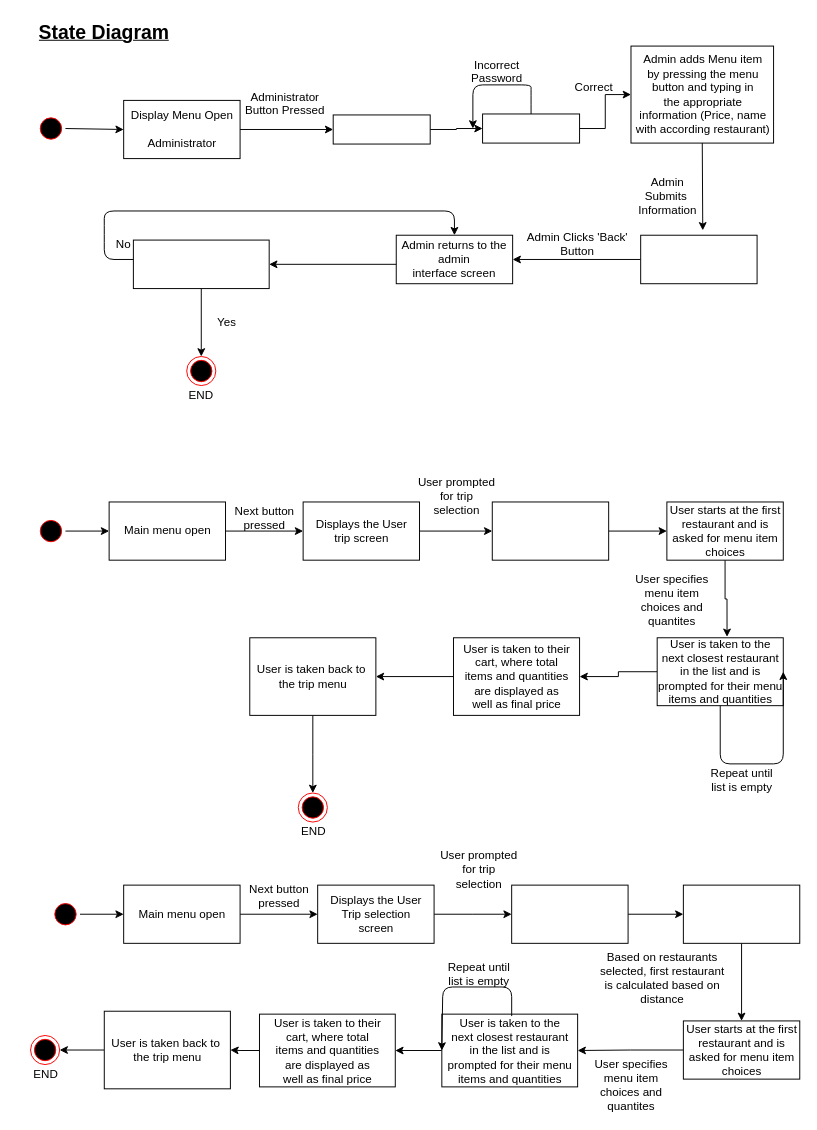
Image size: 817x1130. Some labels were removed from this diagram. The shapes that lost their labels are listed below. From the top down, each one's centre as x and y in pixels, then its label:
At [381,129]: "Display the admin login".
At [531,128]: "Admin enters password".
At [200,264]: "Admin logout (Admin backs out of the admin menu screen)".
At [698,259]: "Item added to the restaurant and is displayed".
At [550,530]: "User selects initial trip".
At [569,913]: "User selects custom trip".
At [741,913]: "User selects the specific restaurants that they wish to visit".
